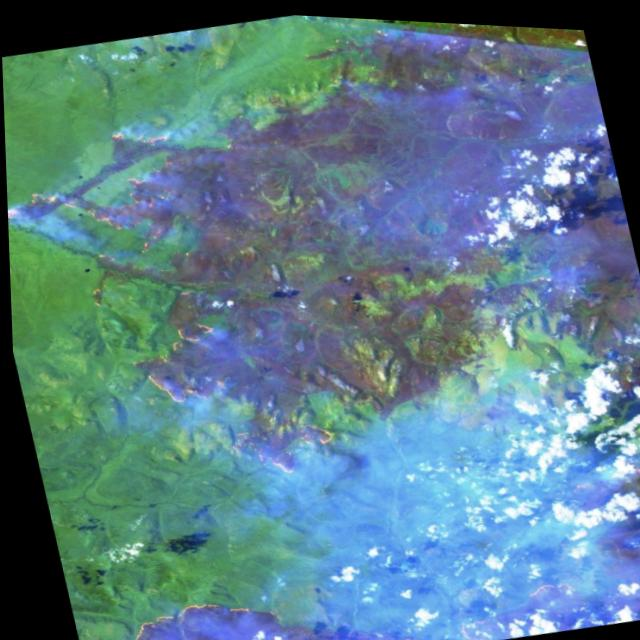fire: (3, 100, 233, 317), (115, 299, 229, 420), (219, 409, 345, 487)
